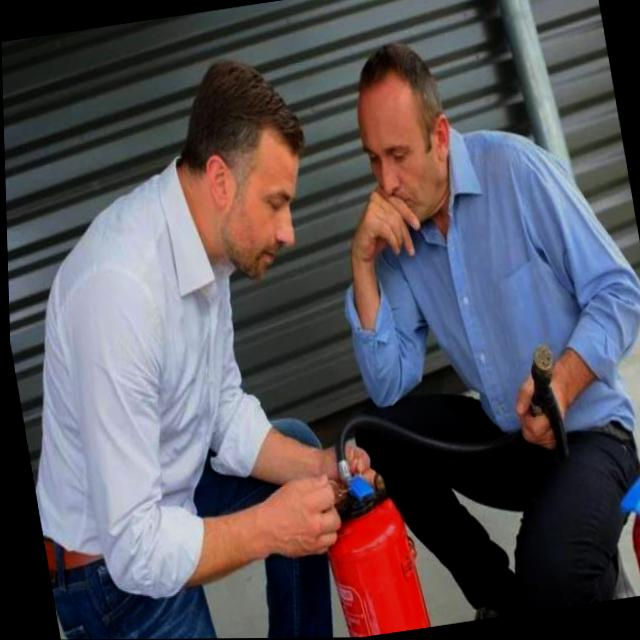FireExtinguisher: (287, 335, 599, 638), (605, 444, 640, 597)
